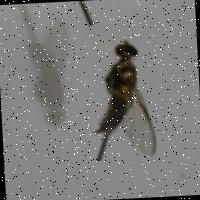Oriental-fruit-fly: (80, 22, 172, 162)
